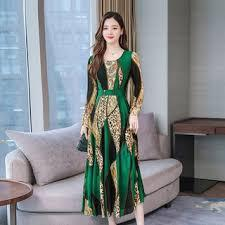dress: (82, 50, 143, 216)
